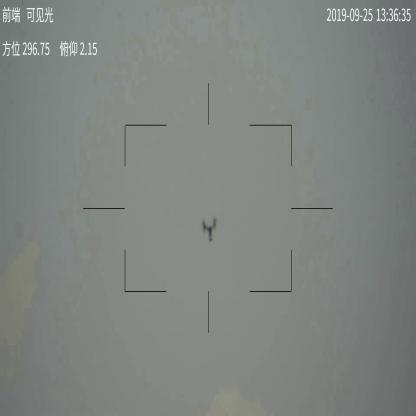uav: (200, 216, 219, 245)
